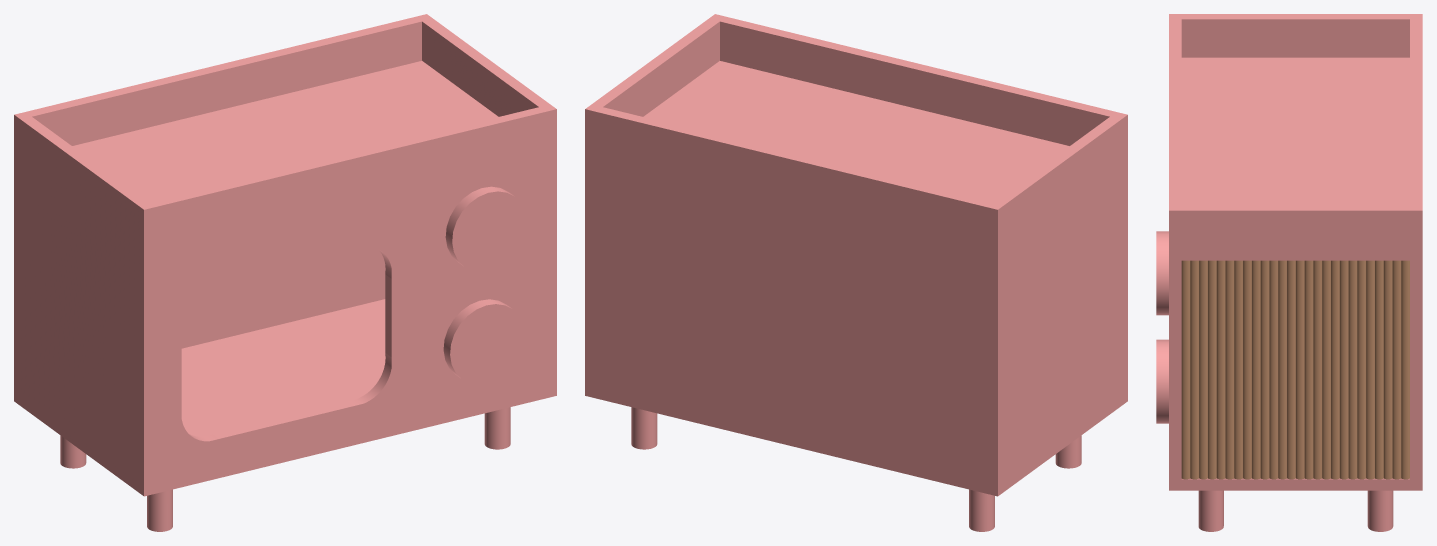
3 renders of one model, left to right at view 1: azimuth 30°, elevation 25°; view 2: azimuth 150°, elevation 25°; view 3: azimuth 270°, elevation 25°, orthographic. The views are drawn at different scales.
Visible parts, largest first — view 1: 205895; view 2: 205895; view 3: 205895, 204190, 204204, 204196, 204195, 204201, 204206, 204200, 204209, 204205, 204210, 204191 (+15 smaller).
Boxes of the visible parts, x1,y1,x2,y2 form: 205895: [14, 14, 556, 531]; 205895: [585, 14, 1127, 531]; 205895: [1156, 14, 1422, 531]; 204190: [1216, 260, 1225, 479]; 204204: [1339, 260, 1348, 479]; 204196: [1269, 260, 1278, 479]; 204195: [1260, 260, 1269, 479]; 204201: [1313, 260, 1322, 479]; 204206: [1357, 260, 1366, 479]; 204200: [1304, 260, 1313, 479]; 204209: [1383, 260, 1392, 479]; 204205: [1348, 260, 1357, 479]; 204210: [1392, 260, 1401, 479]; 204191: [1225, 260, 1234, 479].
Size of the model in its own units: 0.55 by 0.435 by 0.315.
